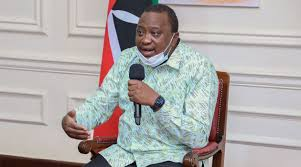mask_weared_incorrect: (137, 25, 169, 63)
